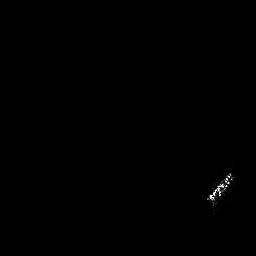ship: (203, 169, 239, 207)
